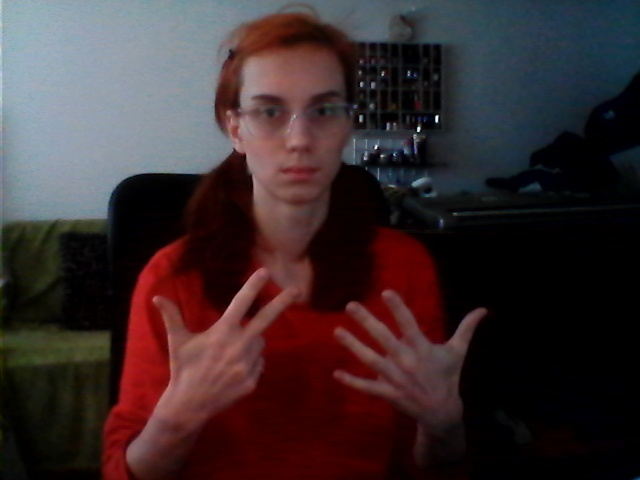osem: (143, 265, 493, 415)
